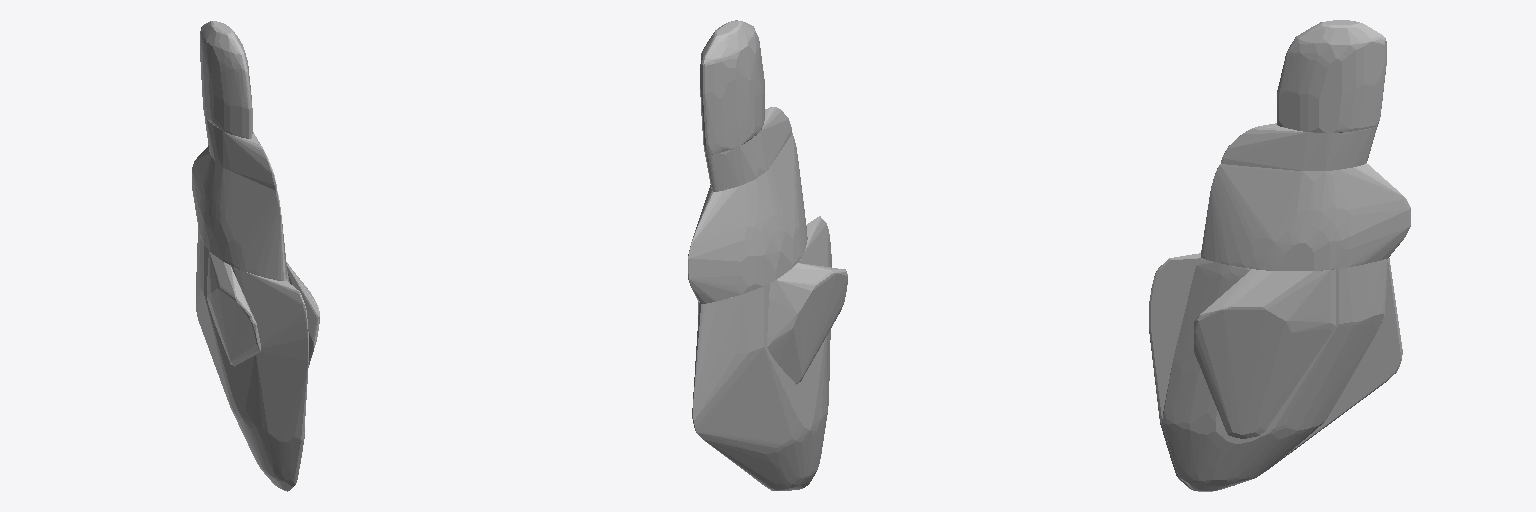
The robot description file, URDF, robot "root":
<robot name="root">
  <link name="link_coacd_convex_piece_0">
    <inertial>
      <origin xyz="0 0 0" rpy="0 0 0"/>
      <inertia ixx="1.35E-03" ixy="9.50E-06" ixz="-2.23E-06" iyy="8.81E-04" iyz="4.21E-04" izz="6.11E-04"/>
    </inertial>
    <visual>
      <origin xyz="0 0 0" rpy="0 0 0"/>
      <geometry>
        <mesh filename="coacd_convex_piece_0.obj" scale="1.0000E+00 1.0000E+00 1.0000E+00"/>
      </geometry>
      <material name="">
        <color rgba="7.50E-01 7.50E-01 7.50E-01 1"/>
      </material>
    </visual>
    <collision>
      <origin xyz="0 0 0" rpy="0 0 0"/>
      <geometry>
        <mesh filename="coacd_convex_piece_0.obj" scale="1.0000E+00 1.0000E+00 1.0000E+00"/>
      </geometry>
    </collision>
  </link>
  <link name="link_coacd_convex_piece_1">
    <inertial>
      <origin xyz="0 0 0" rpy="0 0 0"/>
      <inertia ixx="5.24E-04" ixy="-1.89E-04" ixz="6.08E-05" iyy="2.03E-04" iyz="1.57E-04" izz="5.16E-04"/>
    </inertial>
    <visual>
      <origin xyz="0 0 0" rpy="0 0 0"/>
      <geometry>
        <mesh filename="coacd_convex_piece_1.obj" scale="1.0000E+00 1.0000E+00 1.0000E+00"/>
      </geometry>
      <material name="">
        <color rgba="7.50E-01 7.50E-01 7.50E-01 1"/>
      </material>
    </visual>
    <collision>
      <origin xyz="0 0 0" rpy="0 0 0"/>
      <geometry>
        <mesh filename="coacd_convex_piece_1.obj" scale="1.0000E+00 1.0000E+00 1.0000E+00"/>
      </geometry>
    </collision>
  </link>
  <joint name="link_coacd_convex_piece_1_joint" type="fixed">
    <origin xyz="0 0 0" rpy="0 0 0"/>
    <parent link="link_coacd_convex_piece_0"/>
    <child link="link_coacd_convex_piece_1"/>
  </joint>
  <link name="link_coacd_convex_piece_2">
    <inertial>
      <origin xyz="0 0 0" rpy="0 0 0"/>
      <inertia ixx="5.67E-03" ixy="-4.80E-04" ixz="5.15E-05" iyy="9.00E-04" iyz="9.45E-04" izz="4.93E-03"/>
    </inertial>
    <visual>
      <origin xyz="0 0 0" rpy="0 0 0"/>
      <geometry>
        <mesh filename="coacd_convex_piece_2.obj" scale="1.0000E+00 1.0000E+00 1.0000E+00"/>
      </geometry>
      <material name="">
        <color rgba="7.50E-01 7.50E-01 7.50E-01 1"/>
      </material>
    </visual>
    <collision>
      <origin xyz="0 0 0" rpy="0 0 0"/>
      <geometry>
        <mesh filename="coacd_convex_piece_2.obj" scale="1.0000E+00 1.0000E+00 1.0000E+00"/>
      </geometry>
    </collision>
  </link>
  <joint name="link_coacd_convex_piece_2_joint" type="fixed">
    <origin xyz="0 0 0" rpy="0 0 0"/>
    <parent link="link_coacd_convex_piece_1"/>
    <child link="link_coacd_convex_piece_2"/>
  </joint>
  <link name="link_coacd_convex_piece_3">
    <inertial>
      <origin xyz="0 0 0" rpy="0 0 0"/>
      <inertia ixx="8.83E-03" ixy="5.65E-04" ixz="-7.65E-05" iyy="1.79E-03" iyz="1.38E-03" izz="7.25E-03"/>
    </inertial>
    <visual>
      <origin xyz="0 0 0" rpy="0 0 0"/>
      <geometry>
        <mesh filename="coacd_convex_piece_3.obj" scale="1.0000E+00 1.0000E+00 1.0000E+00"/>
      </geometry>
      <material name="">
        <color rgba="7.50E-01 7.50E-01 7.50E-01 1"/>
      </material>
    </visual>
    <collision>
      <origin xyz="0 0 0" rpy="0 0 0"/>
      <geometry>
        <mesh filename="coacd_convex_piece_3.obj" scale="1.0000E+00 1.0000E+00 1.0000E+00"/>
      </geometry>
    </collision>
  </link>
  <joint name="link_coacd_convex_piece_3_joint" type="fixed">
    <origin xyz="0 0 0" rpy="0 0 0"/>
    <parent link="link_coacd_convex_piece_2"/>
    <child link="link_coacd_convex_piece_3"/>
  </joint>
  <link name="link_coacd_convex_piece_4">
    <inertial>
      <origin xyz="0 0 0" rpy="0 0 0"/>
      <inertia ixx="1.35E-04" ixy="7.65E-05" ixz="-3.54E-05" iyy="1.11E-04" iyz="5.89E-05" izz="1.39E-04"/>
    </inertial>
    <visual>
      <origin xyz="0 0 0" rpy="0 0 0"/>
      <geometry>
        <mesh filename="coacd_convex_piece_4.obj" scale="1.0000E+00 1.0000E+00 1.0000E+00"/>
      </geometry>
      <material name="">
        <color rgba="7.50E-01 7.50E-01 7.50E-01 1"/>
      </material>
    </visual>
    <collision>
      <origin xyz="0 0 0" rpy="0 0 0"/>
      <geometry>
        <mesh filename="coacd_convex_piece_4.obj" scale="1.0000E+00 1.0000E+00 1.0000E+00"/>
      </geometry>
    </collision>
  </link>
  <joint name="link_coacd_convex_piece_4_joint" type="fixed">
    <origin xyz="0 0 0" rpy="0 0 0"/>
    <parent link="link_coacd_convex_piece_3"/>
    <child link="link_coacd_convex_piece_4"/>
  </joint>
  <link name="link_coacd_convex_piece_5">
    <inertial>
      <origin xyz="0 0 0" rpy="0 0 0"/>
      <inertia ixx="1.03E-03" ixy="4.11E-06" ixz="-3.65E-07" iyy="1.30E-04" iyz="2.59E-04" izz="9.14E-04"/>
    </inertial>
    <visual>
      <origin xyz="0 0 0" rpy="0 0 0"/>
      <geometry>
        <mesh filename="coacd_convex_piece_5.obj" scale="1.0000E+00 1.0000E+00 1.0000E+00"/>
      </geometry>
      <material name="">
        <color rgba="7.50E-01 7.50E-01 7.50E-01 1"/>
      </material>
    </visual>
    <collision>
      <origin xyz="0 0 0" rpy="0 0 0"/>
      <geometry>
        <mesh filename="coacd_convex_piece_5.obj" scale="1.0000E+00 1.0000E+00 1.0000E+00"/>
      </geometry>
    </collision>
  </link>
  <joint name="link_coacd_convex_piece_5_joint" type="fixed">
    <origin xyz="0 0 0" rpy="0 0 0"/>
    <parent link="link_coacd_convex_piece_4"/>
    <child link="link_coacd_convex_piece_5"/>
  </joint>
  <link name="link_coacd_convex_piece_6">
    <inertial>
      <origin xyz="0 0 0" rpy="0 0 0"/>
      <inertia ixx="5.40E-03" ixy="6.87E-06" ixz="-1.45E-06" iyy="4.51E-04" iyz="1.39E-03" izz="4.97E-03"/>
    </inertial>
    <visual>
      <origin xyz="0 0 0" rpy="0 0 0"/>
      <geometry>
        <mesh filename="coacd_convex_piece_6.obj" scale="1.0000E+00 1.0000E+00 1.0000E+00"/>
      </geometry>
      <material name="">
        <color rgba="7.50E-01 7.50E-01 7.50E-01 1"/>
      </material>
    </visual>
    <collision>
      <origin xyz="0 0 0" rpy="0 0 0"/>
      <geometry>
        <mesh filename="coacd_convex_piece_6.obj" scale="1.0000E+00 1.0000E+00 1.0000E+00"/>
      </geometry>
    </collision>
  </link>
  <joint name="link_coacd_convex_piece_6_joint" type="fixed">
    <origin xyz="0 0 0" rpy="0 0 0"/>
    <parent link="link_coacd_convex_piece_5"/>
    <child link="link_coacd_convex_piece_6"/>
  </joint>
</robot>

--- What the picture shows (computed from the rendered views, not written in the file) ---
Views: 3 orthographic renders of the robot side by side, from view 1: azimuth 30°, elevation 25°; view 2: azimuth 150°, elevation 25°; view 3: azimuth 270°, elevation 25°.
Robot: root — 7 links, 6 joints (6 fixed); root link link_coacd_convex_piece_0; default pose: every joint at zero.
Visible links, largest first — view 1: link_coacd_convex_piece_3, link_coacd_convex_piece_0, link_coacd_convex_piece_6, link_coacd_convex_piece_4, link_coacd_convex_piece_5, link_coacd_convex_piece_1; view 2: link_coacd_convex_piece_3, link_coacd_convex_piece_0, link_coacd_convex_piece_6, link_coacd_convex_piece_4, link_coacd_convex_piece_5; view 3: link_coacd_convex_piece_2, link_coacd_convex_piece_0, link_coacd_convex_piece_1, link_coacd_convex_piece_6, link_coacd_convex_piece_3, link_coacd_convex_piece_5.
Link boxes in pixels (x1,y1,x2,y2): link_coacd_convex_piece_3: (196, 229, 308, 491); link_coacd_convex_piece_0: (192, 145, 286, 280); link_coacd_convex_piece_6: (200, 21, 252, 138); link_coacd_convex_piece_4: (207, 252, 260, 366); link_coacd_convex_piece_5: (204, 114, 276, 190); link_coacd_convex_piece_1: (287, 263, 319, 364); link_coacd_convex_piece_3: (692, 216, 831, 490); link_coacd_convex_piece_0: (688, 134, 807, 303); link_coacd_convex_piece_6: (700, 20, 764, 154); link_coacd_convex_piece_4: (767, 263, 847, 384); link_coacd_convex_piece_5: (705, 107, 792, 191); link_coacd_convex_piece_2: (1162, 258, 1387, 491); link_coacd_convex_piece_0: (1201, 163, 1410, 270); link_coacd_convex_piece_1: (1194, 269, 1335, 438); link_coacd_convex_piece_6: (1277, 20, 1386, 132); link_coacd_convex_piece_3: (1149, 253, 1402, 490); link_coacd_convex_piece_5: (1221, 123, 1377, 170).
Bounding box of the posed robot: 0.3427 × 0.9424 × 1.85 m (x, y, z).
Meshes: 7 distinct files referenced, 7 mesh visuals loaded (7 OBJ).
